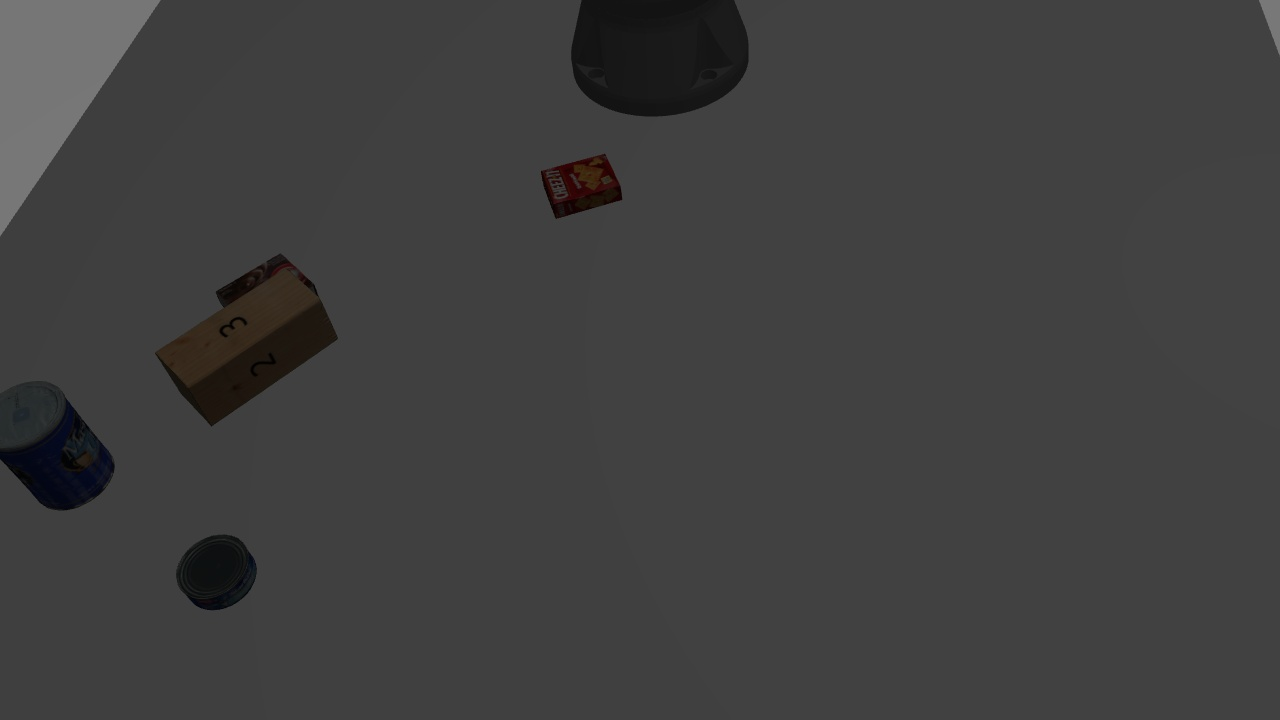cracker_box: (542, 151, 620, 223)
master_chef_can: (2, 375, 123, 523)
pudding_box: (207, 256, 319, 312)
tuna_fish_can: (174, 526, 256, 611)
wood_block: (152, 262, 340, 425)
